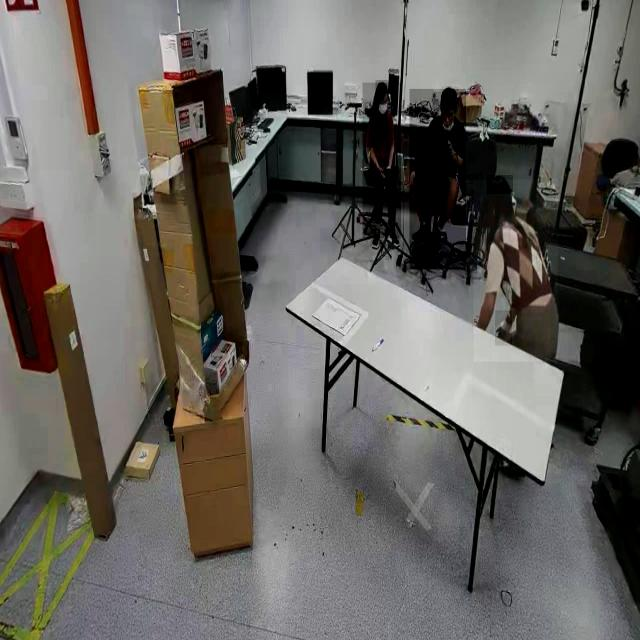face_mask: (376, 94, 389, 118)
face_nomask: (442, 106, 454, 132)
hand_glove: (494, 310, 512, 347)
hand_noglove: (384, 162, 392, 178), (378, 164, 387, 178)
head_nohelmet: (487, 175, 513, 194), (441, 86, 458, 102), (375, 80, 389, 94)
person: (473, 180, 558, 362), (409, 89, 466, 270), (362, 83, 401, 239)
